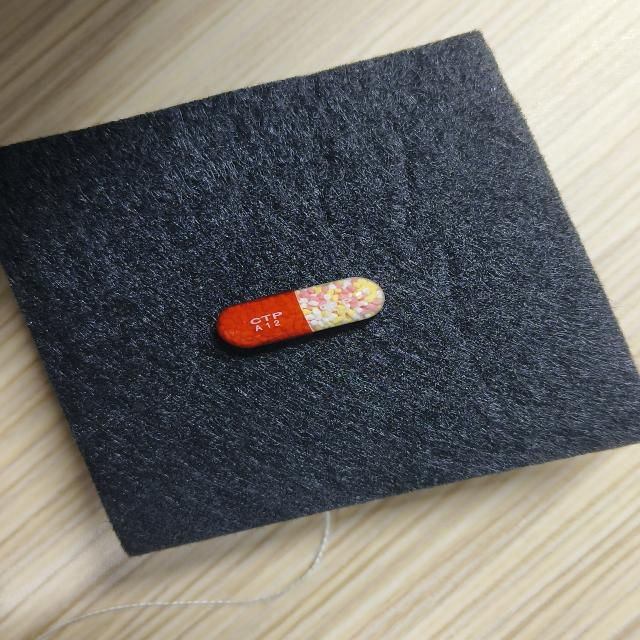Intact Capsule: (216, 277, 385, 348)
